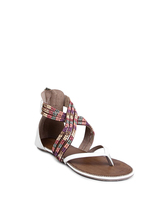shoes: (29, 88, 139, 185)
